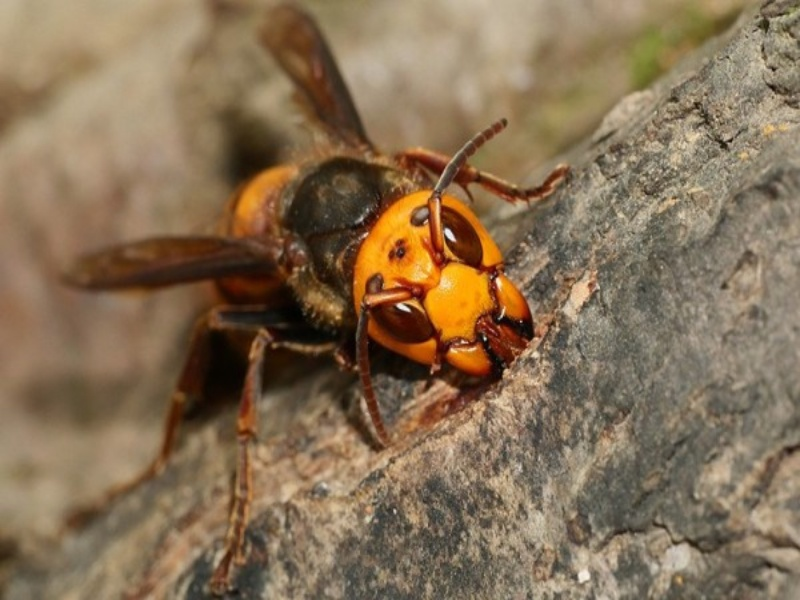asian_giant_hornet: (200, 126, 537, 430)
